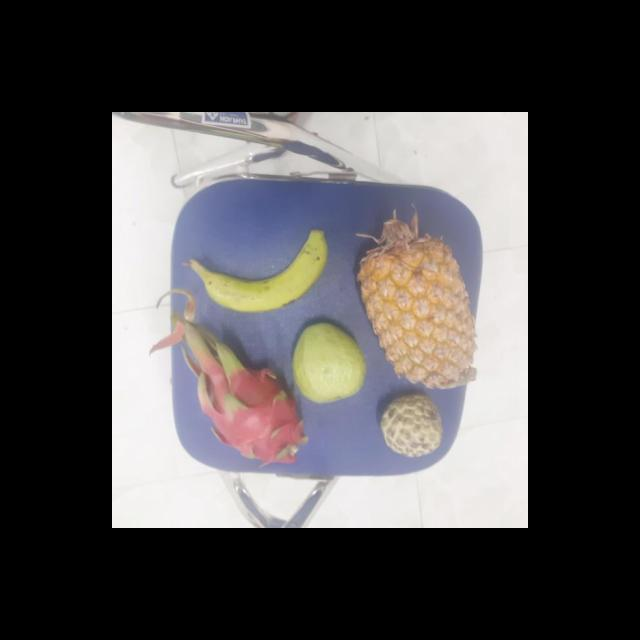Sakya fruit: (378, 396, 442, 456)
banana: (186, 236, 325, 312)
guava: (288, 323, 366, 403)
pineapple: (356, 230, 472, 388)
pitaya: (200, 360, 304, 464)
